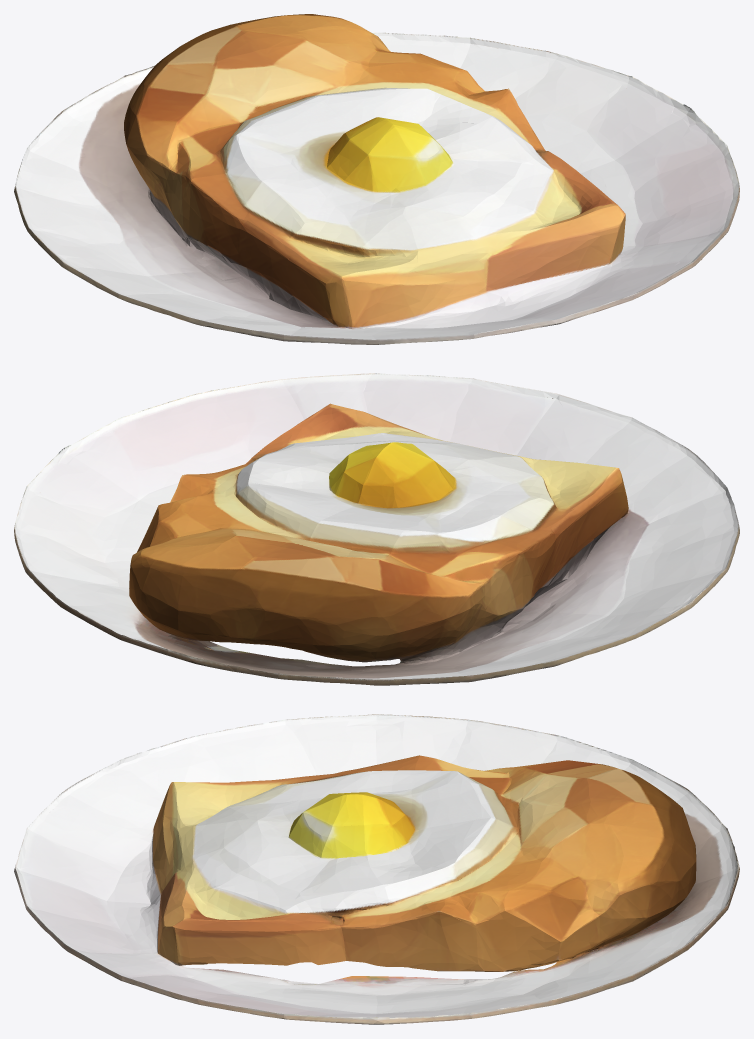
File: Egg Toast.glb
3 views of the same model, one above another, from view 1: azimuth 30°, elevation 25°; view 2: azimuth 150°, elevation 25°; view 3: azimuth 270°, elevation 25° (orthographic).
Parts seen in each view (by area): view 1: world; view 2: world; view 3: world.
Part boxes in pixels (box(x1,y1,x2,y2)): world: box(14, 14, 739, 344); world: box(14, 373, 739, 685); world: box(14, 714, 739, 1024).
Bounding box in the file's own units: 1 × 0.1895 × 1.
Materials: 1 (1 with a texture image).
